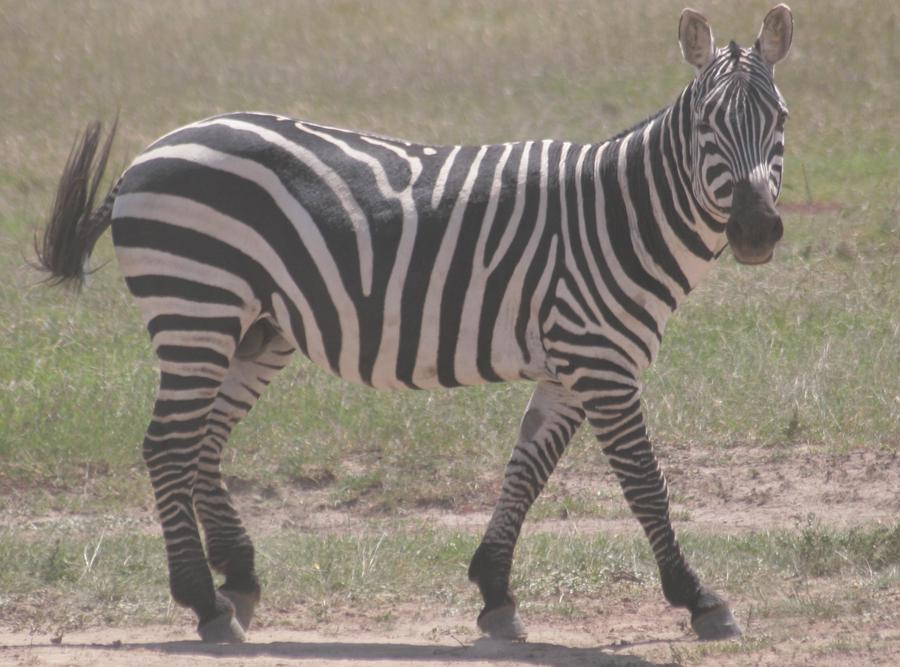zebra_plains: (122, 110, 674, 364)
